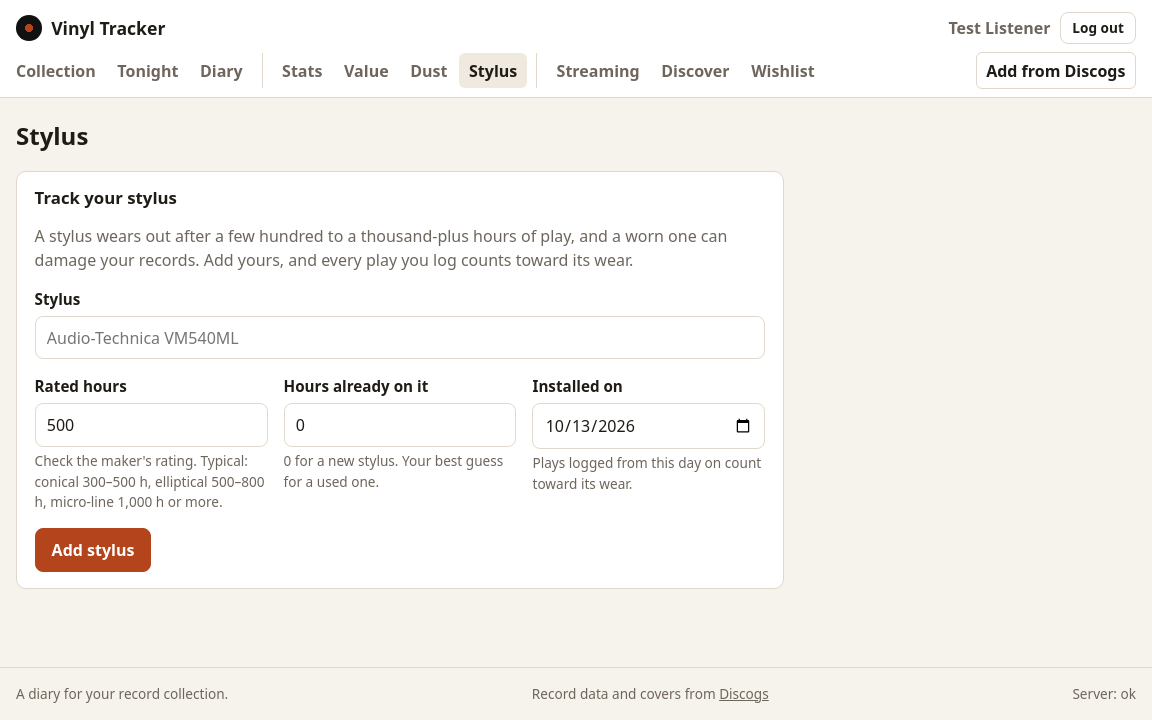
Test: StylusPage › checks the form before sending
The image size is (1152, 720).
Step 1. Click the button "Add stylus" → click(93, 550), box [35,528,151,572]
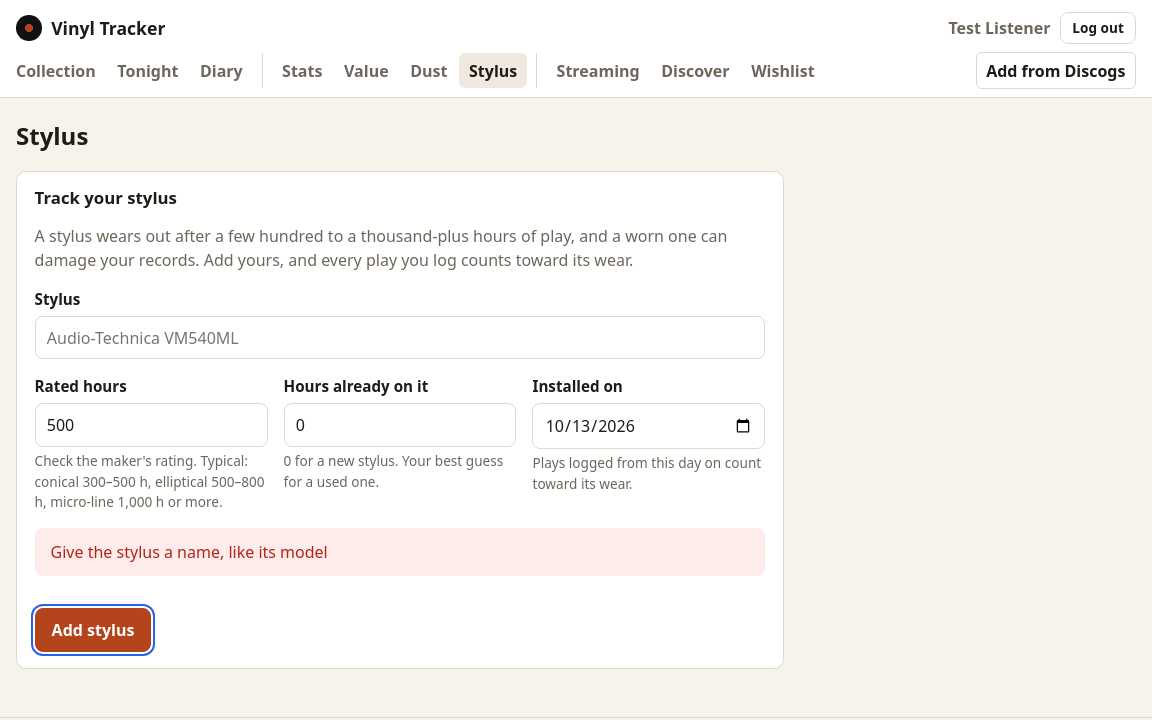
Now the message shows "Give the stylus a name", box [51,542,328,564]
